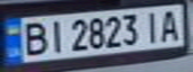2: (66, 16, 90, 52), (103, 12, 124, 48)
3: (118, 11, 142, 46)
8: (87, 15, 109, 51)
A: (157, 7, 184, 42)
B: (18, 19, 51, 56)
I: (45, 17, 69, 54), (139, 8, 163, 44)
